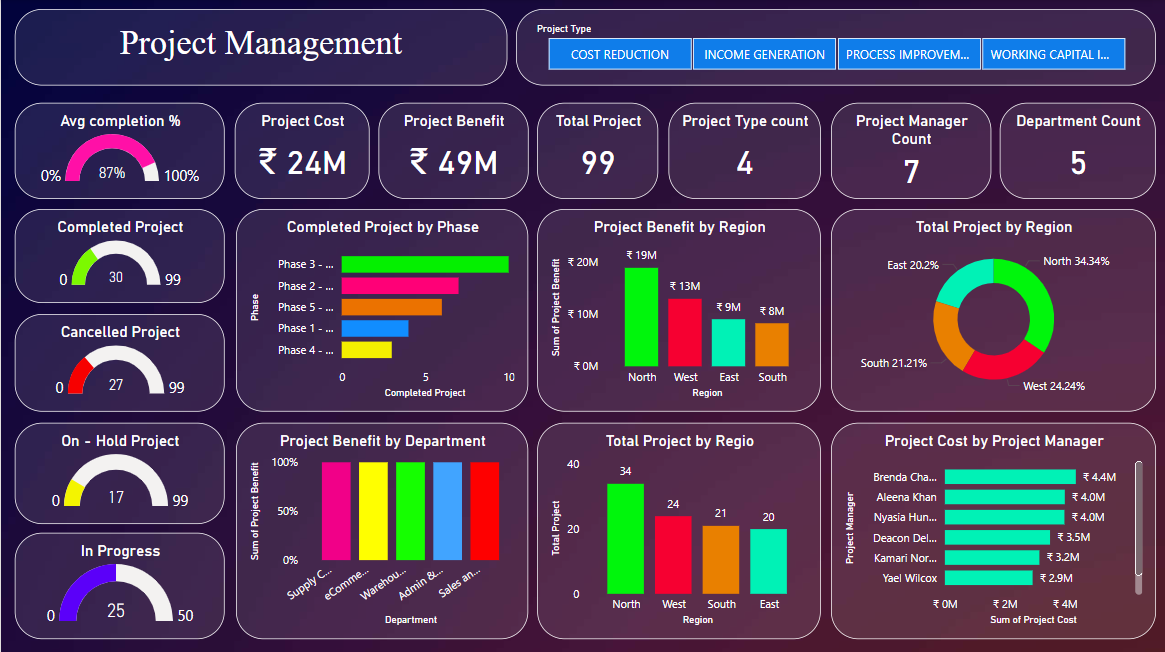

This screenshot's page, from the dashboard's own definition file:
{"tool":"powerbi","page":{"name":"Page 1","canvas":[1280,720],"ordinal":0},"visuals":[{"type":"card","title":"Project Cost","fields":{"Values":["Project management.Project Cost"]},"box":[256.6,113.9,148.2,105.7],"z":0},{"type":"card","title":"Project Benefit","fields":{"Values":["Project management.Project Benefit"]},"box":[414.4,113.9,164.7,105.7],"z":1000},{"type":"card","title":"Total Project ","fields":{"Values":["All Measures.Total Project"]},"box":[588.7,113.9,133.1,105.7],"z":2000},{"type":"card","title":"Project Type count","fields":{"Values":["Project management.Project Type"]},"box":[732.8,113.9,167.4,105.7],"z":3000},{"type":"card","title":"Project Manager Count","fields":{"Values":["Project management.Project Manager"]},"box":[911.2,113.9,175.6,105.7],"z":4000},{"type":"card","title":"Department Count","fields":{"Values":["Project management.Department"]},"box":[1096.4,113.9,171.5,105.7],"z":5000},{"type":"gauge","fields":{"Y":["All Measures.Avg completion %"]},"box":[15.1,113.9,230.5,105.7],"z":6000},{"type":"gauge","title":"Completed Project ","fields":{"Y":["All Measures.Completed Project"],"MaxValue":["All Measures.Total Project"]},"box":[15.1,230.5,230.5,102.9],"z":7000},{"type":"gauge","title":"Cancelled Project ","fields":{"MaxValue":["All Measures.Total Project"],"Y":["All Measures.Cancelled Project"]},"box":[15.1,345.8,230.5,107],"z":8000},{"type":"gauge","title":"On - Hold Project ","fields":{"MaxValue":["All Measures.Total Project"],"Y":["All Measures.On - Hold Project"]},"box":[15.1,465.2,230.5,111.1],"z":9000},{"type":"gauge","title":"In Progress","fields":{"Y":["All Measures.In - ProgressProject"]},"box":[15.1,585.9,230.5,116.6],"z":10000},{"type":"barChart","fields":{"Category":["Project management.Phase"],"Y":["All Measures.Completed Project"]},"box":[258,230.5,321.1,222.3],"z":11000},{"type":"columnChart","title":" Project Benefit by Region","fields":{"Category":["Project management.Region"],"Y":["Project management.Project Benefit"]},"box":[588.7,230.5,311.5,222.3],"z":12000},{"type":"donutChart","fields":{"Category":["Project management.Region"],"Y":["All Measures.Total Project"]},"box":[911.2,230.5,356.8,222.3],"z":13000},{"type":"hundredPercentStackedColumnChart","title":"Project Benefit by Department","fields":{"Category":["Project management.Department"],"Y":["Project management.Project Benefit"]},"box":[258,465.2,321.1,237.4],"z":14000},{"type":"columnChart","title":" Total Project by Regio ","fields":{"Category":["Project management.Region"],"Y":["All Measures.Total Project"]},"box":[588.7,465.2,311.5,237.4],"z":15000},{"type":"barChart","title":"Project Cost by Project Manager","fields":{"Category":["Project management.Project Manager"],"Y":["Project management.Project Cost"]},"box":[911.2,465.2,356.8,237.4],"z":16000},{"type":"slicer","fields":{"Values":["Project management.Project Type"]},"box":[565.4,11,702.6,83.7],"z":17000},{"type":"textbox","box":[15.1,11,540.7,83.7],"z":18000}]}

Visuals, with their boxes in screenshot pixels (x1, y1, x2, y2), scaled from the page's 1280x720 canvas onto the 1165x652 screenshot:
"Project Cost" card: select_region(234, 103, 368, 199)
"Project Benefit" card: select_region(377, 103, 527, 199)
"Total Project " card: select_region(536, 103, 657, 199)
"Project Type count" card: select_region(667, 103, 819, 199)
"Project Manager Count" card: select_region(829, 103, 989, 199)
"Department Count" card: select_region(998, 103, 1154, 199)
gauge - All Measures.Avg completion %: select_region(14, 103, 224, 199)
"Completed Project " gauge: select_region(14, 209, 224, 302)
"Cancelled Project " gauge: select_region(14, 313, 224, 410)
"On - Hold Project " gauge: select_region(14, 421, 224, 522)
"In Progress" gauge: select_region(14, 531, 224, 636)
barChart - Project management.Phase x All Measures.Completed Project: select_region(235, 209, 527, 410)
" Project Benefit by Region" columnChart: select_region(536, 209, 819, 410)
donutChart - Project management.Region x All Measures.Total Project: select_region(829, 209, 1154, 410)
"Project Benefit by Department" hundredPercentStackedColumnChart: select_region(235, 421, 527, 636)
" Total Project by Regio " columnChart: select_region(536, 421, 819, 636)
"Project Cost by Project Manager" barChart: select_region(829, 421, 1154, 636)
slicer - Project management.Project Type: select_region(515, 10, 1154, 86)
textbox: select_region(14, 10, 506, 86)
